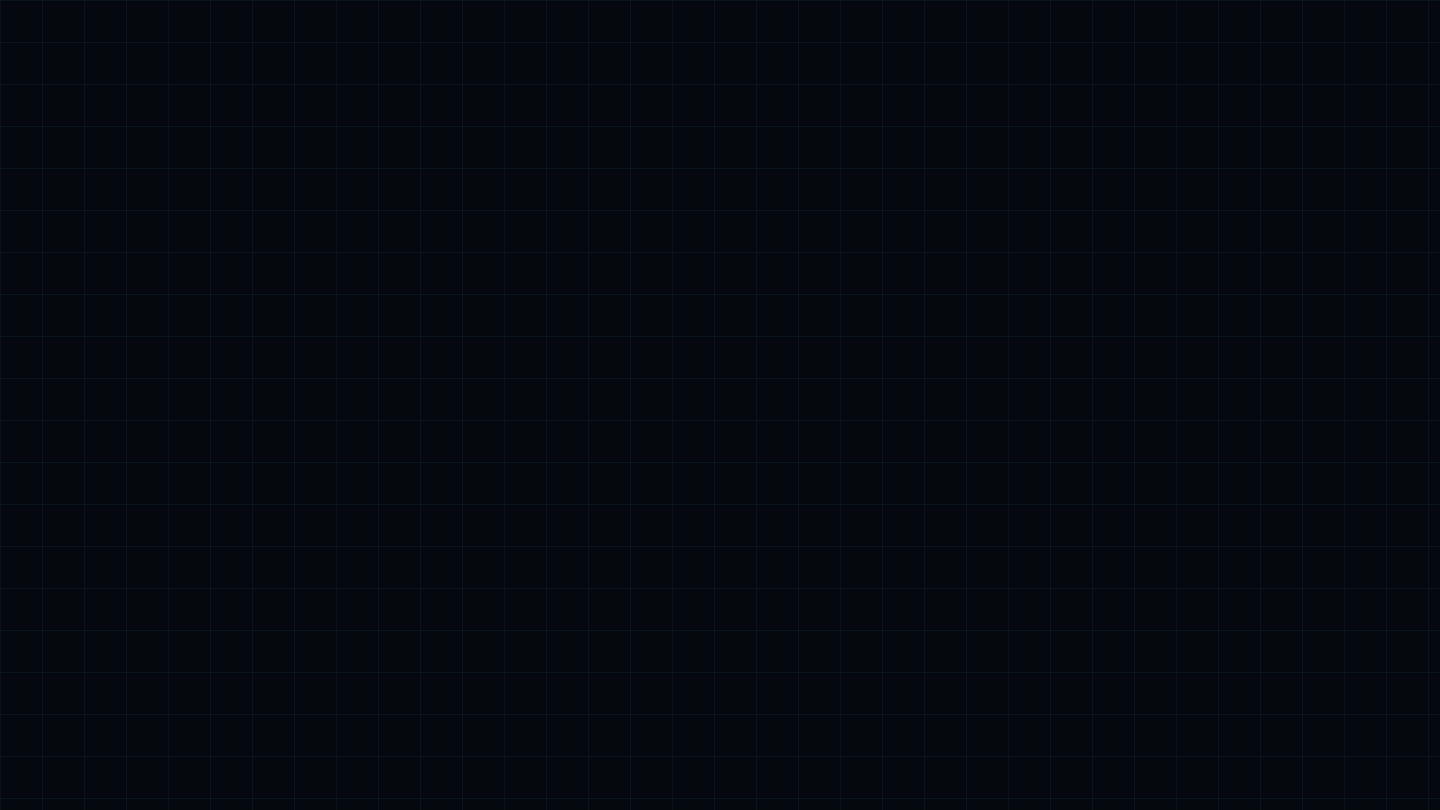
Test case: CommandPalette › shows a no-results message when nothing matches
Press k
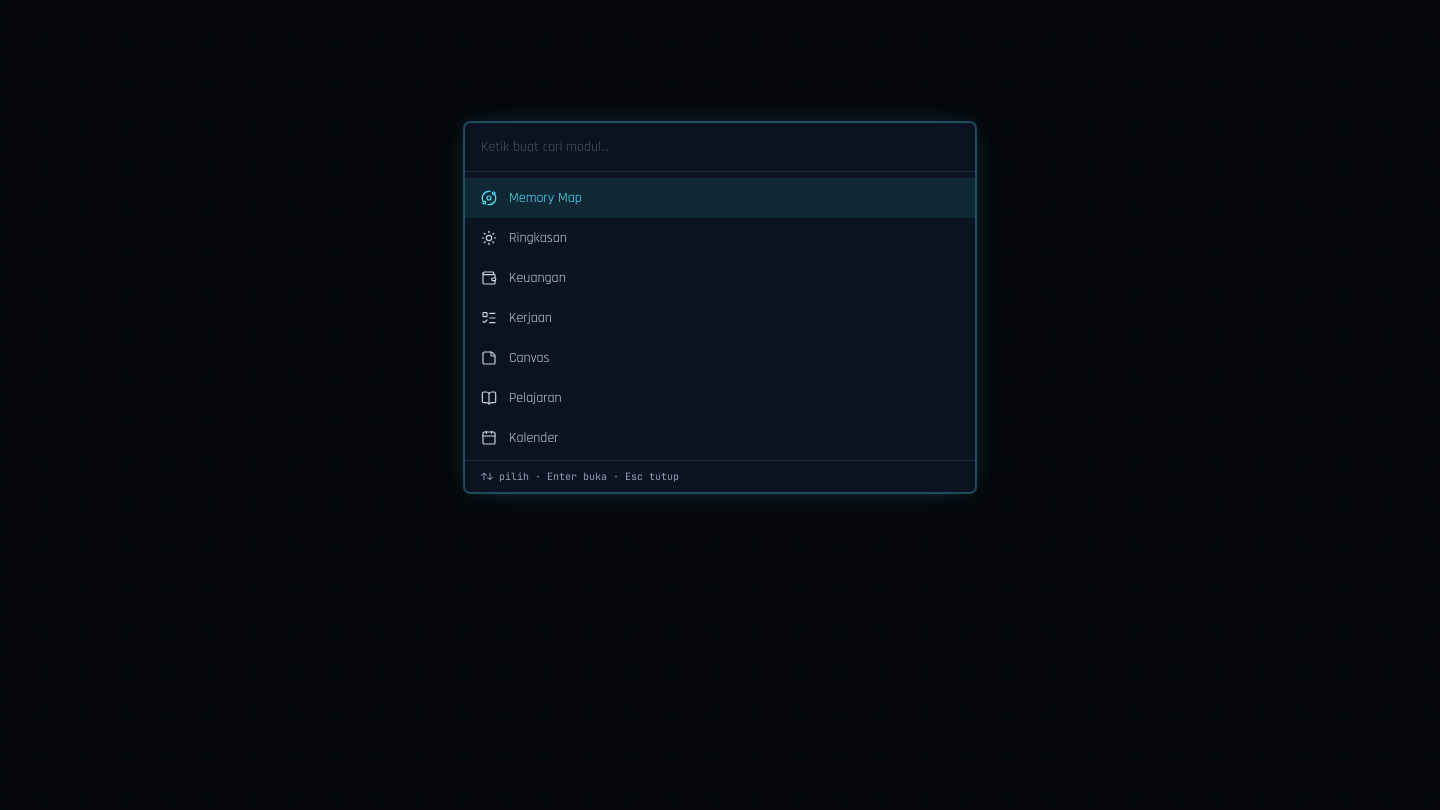
Type "zzzznotfound" into the field with placeholder "Ketik buat cari modul..." at (720, 147), box top-left (465, 122), bottom-right (975, 172)
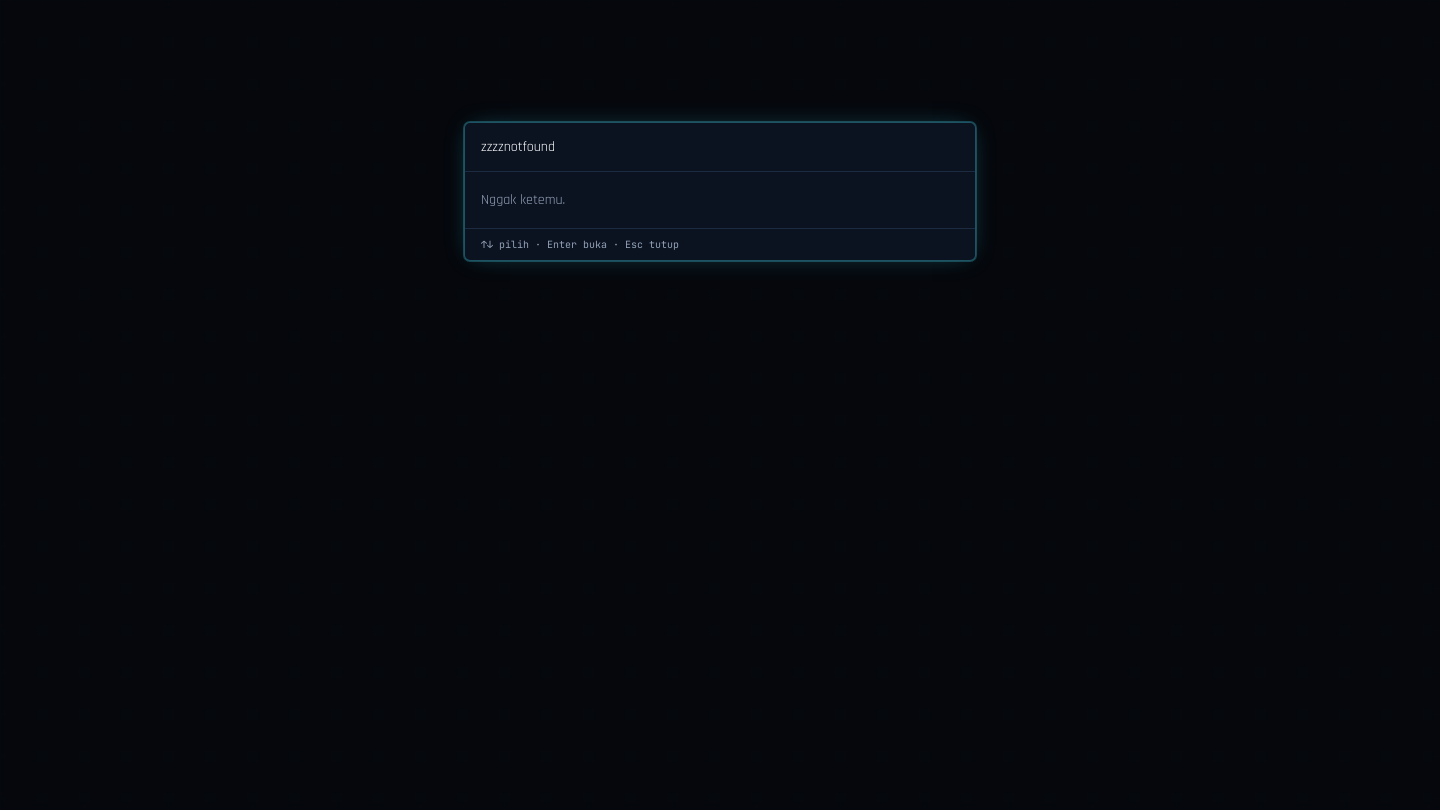
Expected: the list item "Nggak ketemu." is shown, top-left (481, 190), bottom-right (565, 208)
